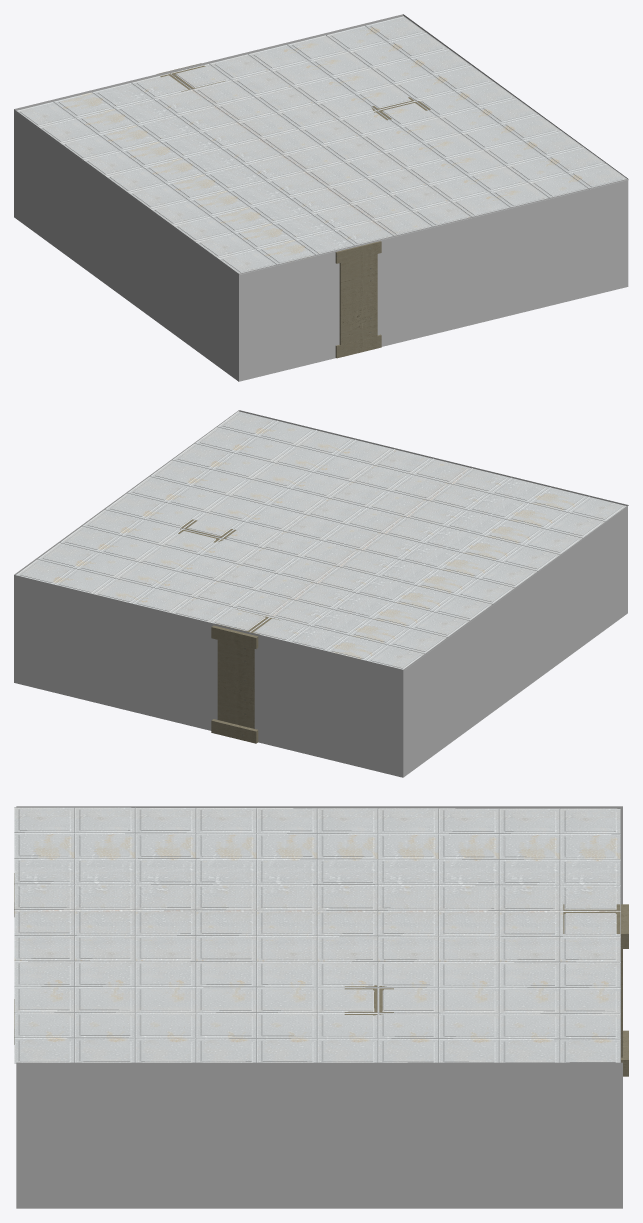
The model's file is menu.fbx.
3 views of the same model, one above another, from view 1: azimuth 30°, elevation 25°; view 2: azimuth 150°, elevation 25°; view 3: azimuth 270°, elevation 25° (orthographic). The views are drawn at different scales.
Visible parts, largest first — view 1: Roof, WallMain, WallMenu; view 2: Roof, WallMain, WallOptions; view 3: Roof, WallMain, WallOptions.
Part boxes in pixels (x1,y1,x2,y2): Roof: [14, 16, 628, 274]; WallMain: [14, 14, 628, 381]; WallMenu: [335, 241, 381, 358]; Roof: [15, 410, 628, 670]; WallMain: [14, 410, 627, 777]; WallOptions: [211, 609, 279, 743]; Roof: [14, 807, 620, 1063]; WallMain: [16, 806, 622, 1208]; WallOptions: [563, 904, 628, 1076].
Size of the model in its own units: 2004 by 531 by 2031.
